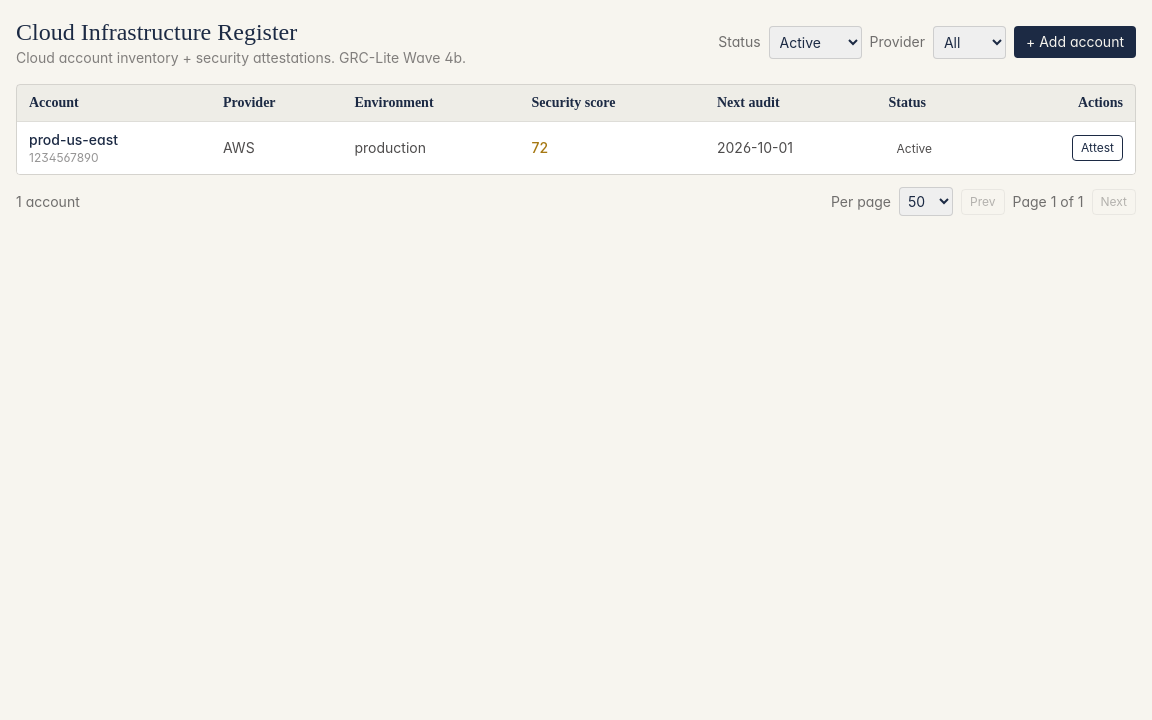
Test: CloudRegister — filter + admin gate › AC 14 UX (via AttestCloudModal): opening attest modal, selecting fail reveals the signal-suppression note
Expected: the text "prod-us-east" is shown, [29,131,118,148]
Click the button "Attest".
click(1098, 148)  # box [1072,135,1123,161]
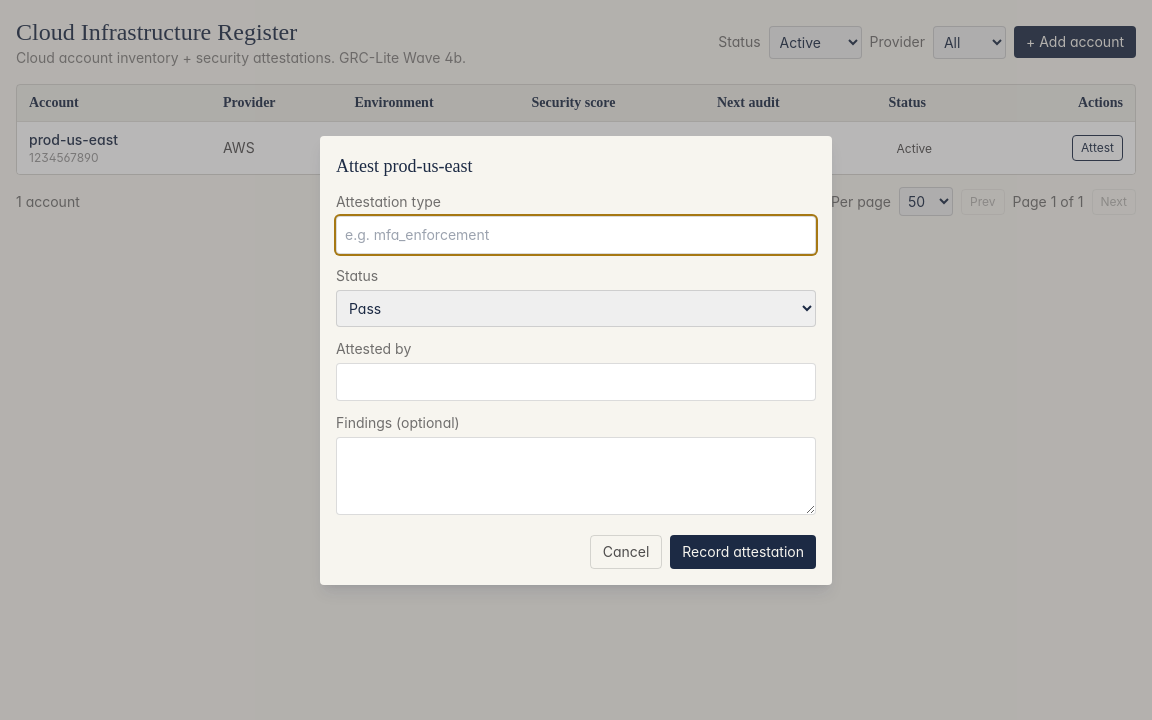
Result: the dialog with test id "attest-cloud-modal" is shown
Select "Fail" in the dropdown with test id "attest-cloud-status" at [576, 308], box [336,290,816,326]
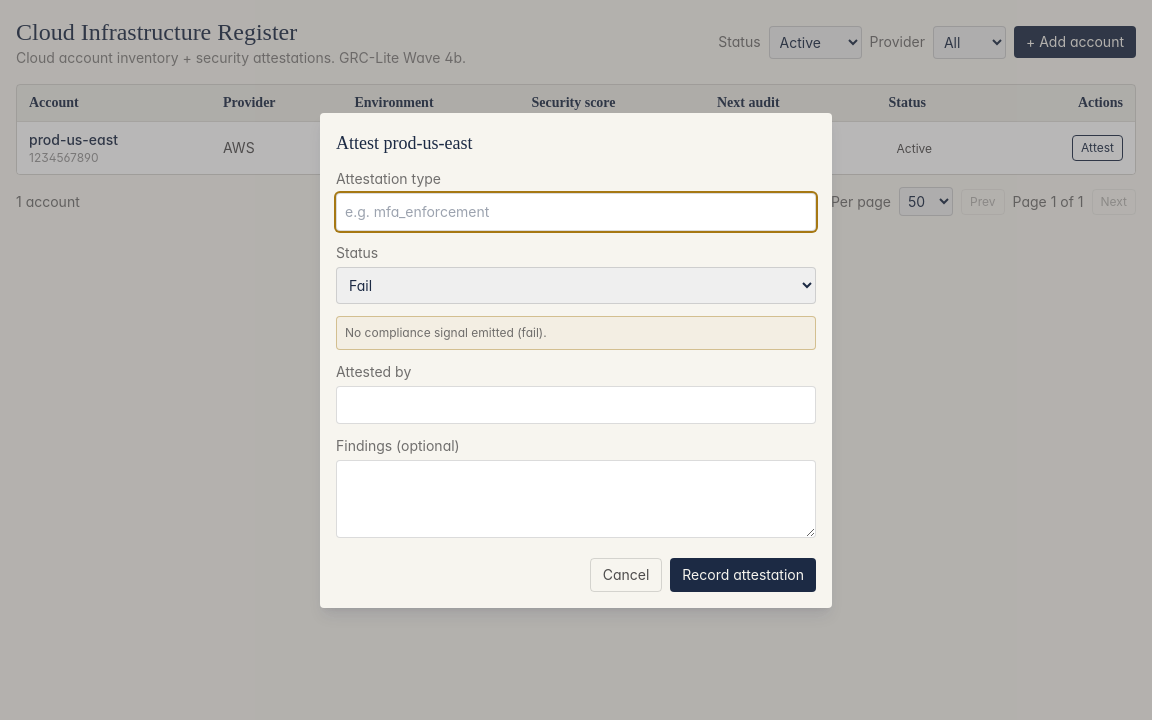
Result: the text "No compliance signal emitted (fail)." is shown at [336,316,816,350]
Note: switching back to pass hides it
Select "Pass" in the dropdown with test id "attest-cloud-status" at [576, 285], box [336,266,816,304]
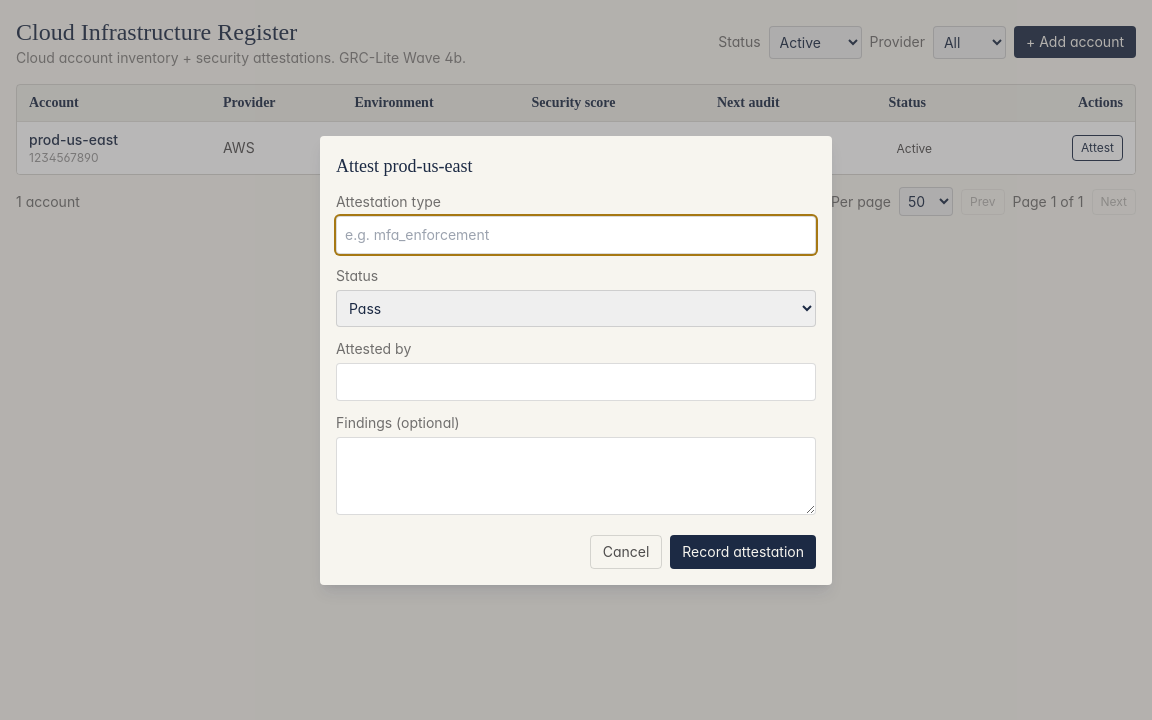
Result: the text with test id "attest-cloud-nonpass-note" is gone
